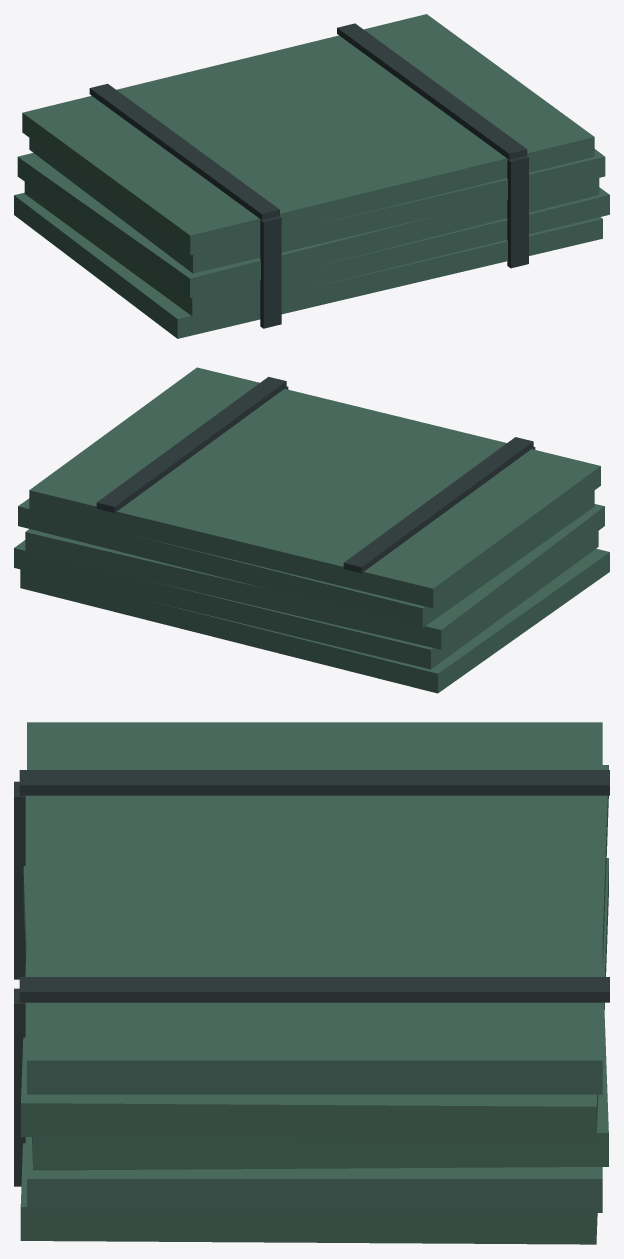
Rendered from legacy-135.glb.
The picture shows the model from 3 angles, top to bottom: view 1: azimuth 30°, elevation 25°; view 2: azimuth 150°, elevation 25°; view 3: azimuth 270°, elevation 25°; orthographic projection. The views are drawn at different scales.
Visible parts, largest first — view 1: part-5, part-1, part-3, part-2, part-4, part-8, part-6, part-7, part-9; view 2: part-5, part-1, part-3, part-2, part-4, part-6, part-8; view 3: part-5, part-4, part-2, part-3, part-1, part-6, part-8, part-7, part-9.
Boxes of the visible parts, x1,y1,x2,y2 form: part-5: (22,14,594,255); part-1: (14,192,602,338); part-3: (17,152,599,298); part-2: (24,182,609,316); part-4: (29,138,605,273); part-8: (337,23,527,159); part-6: (89,83,279,219); part-7: (260,216,281,328); part-9: (507,155,528,268); part-5: (29,367,600,608); part-1: (20,548,609,693); part-3: (25,504,604,649); part-2: (14,531,598,669); part-4: (18,490,594,627); part-6: (343,437,533,573); part-8: (96,376,286,512); part-5: (27,722,602,1094); part-4: (21,765,608,1140); part-2: (27,1137,602,1212); part-3: (23,795,608,1170); part-1: (20,858,608,1244); part-6: (19,770,609,795); part-8: (19,977,609,1002); part-7: (14,781,25,979); part-9: (14,988,25,1186).
Bounding box in the file's own units: 0.592 × 0.149 × 0.414.
